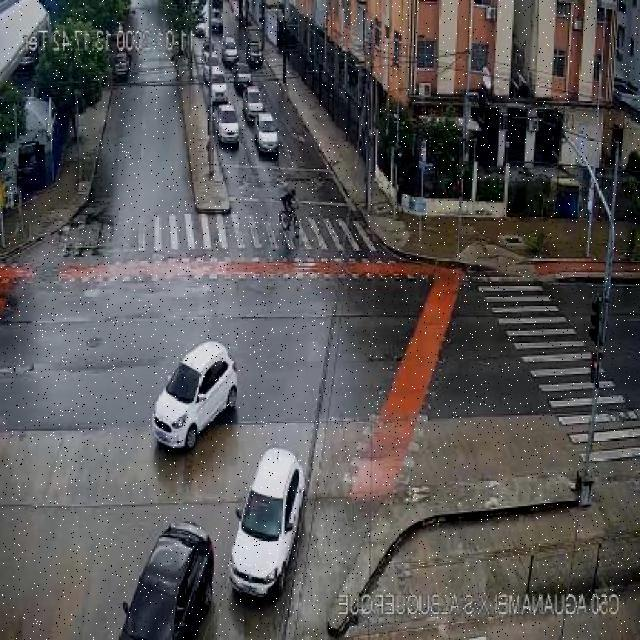Car: (229, 447, 306, 599), (117, 522, 216, 638), (152, 340, 239, 451), (254, 113, 280, 155), (215, 104, 240, 144), (242, 85, 265, 121), (209, 76, 229, 104), (204, 56, 224, 84), (112, 52, 130, 80), (222, 37, 238, 65), (210, 10, 223, 33)
